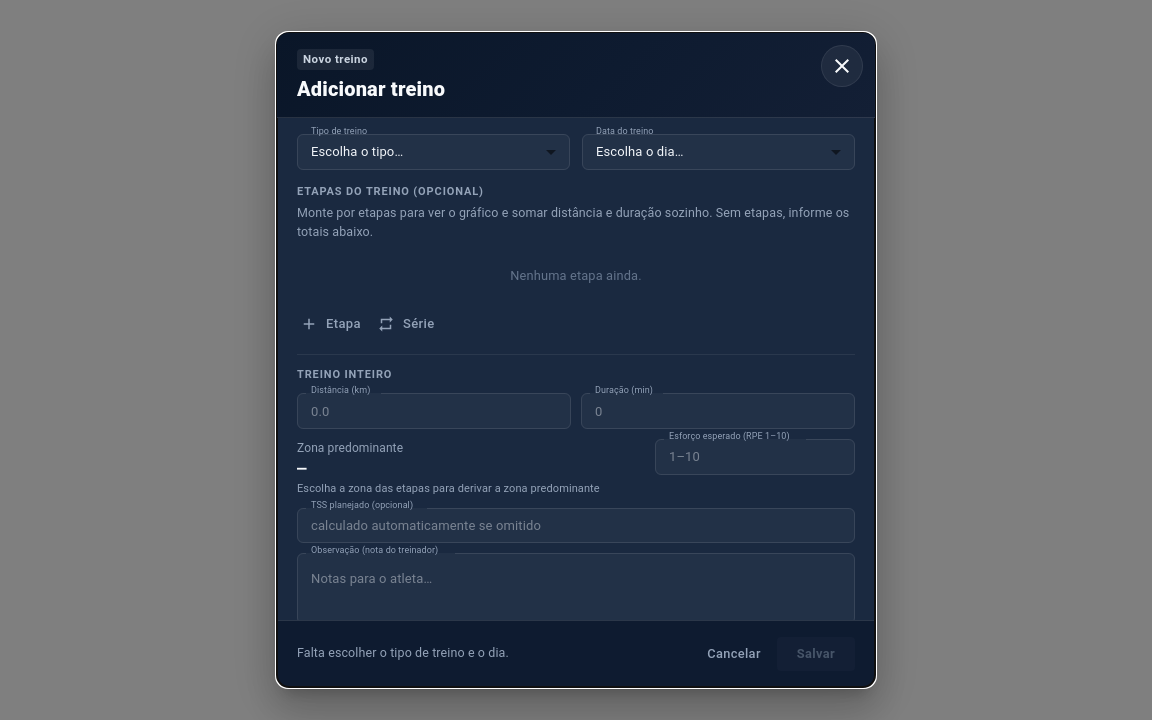
Test case: TreinoAddDialog › adiciona uma etapa avulsa
This screenshot has width=1152, height=720.
Click the button "Etapa" at (331, 324), box [297,309,366,340]
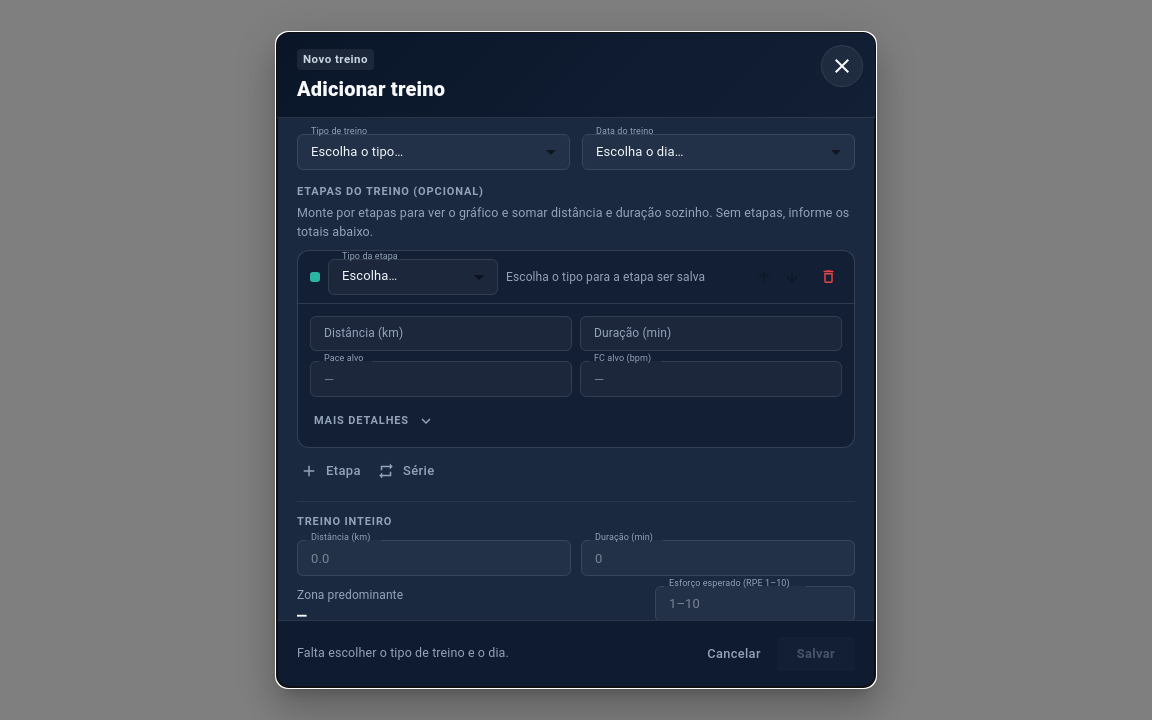
expect the button named "remover etapa 1" is shown: met, box [815,263,842,290]
expect the dropdown named "Tipo da etapa 1" is shown: met, box [328,259,498,295]
